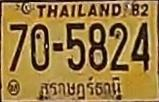0: (30, 23, 49, 70)
2: (109, 22, 127, 70)
4: (130, 21, 148, 70)
5: (65, 22, 84, 70)
7: (9, 22, 27, 70)
8: (88, 22, 106, 70)
SNI: (36, 75, 125, 100)
